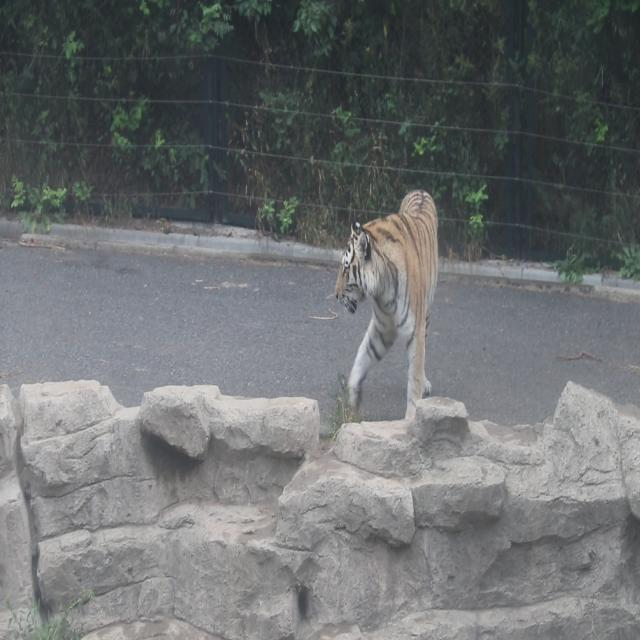Tiger: (331, 161, 445, 422)
